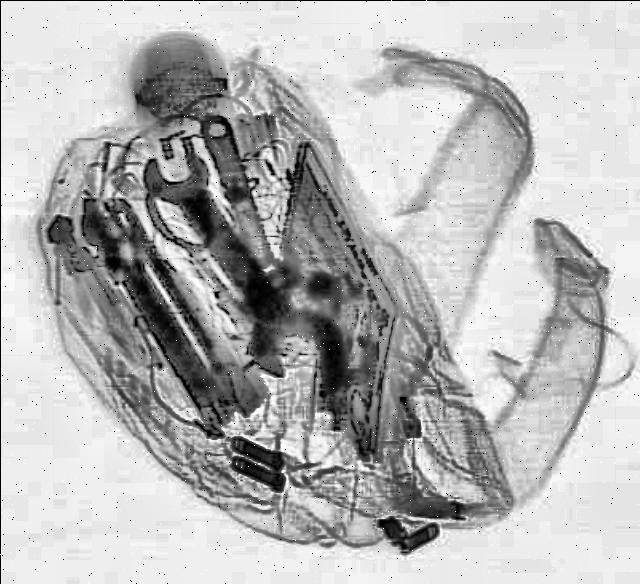Wrench: (130, 139, 342, 388)
